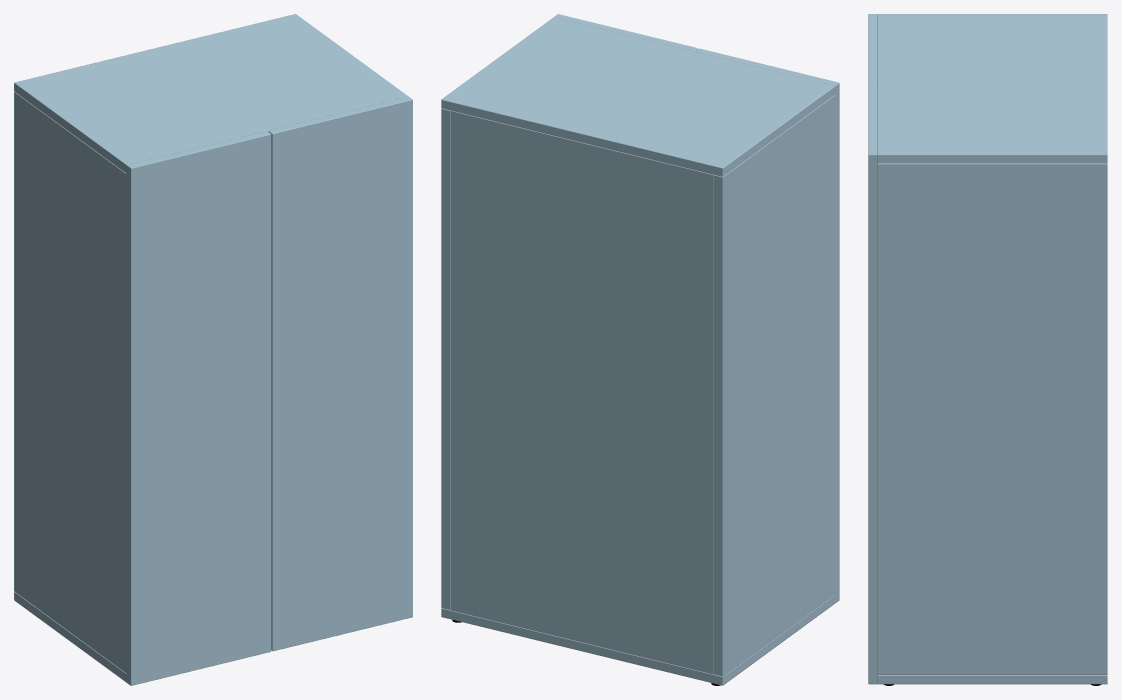
Rendered from lastare_rega_39626732.glb.
3 renders of one model, left to right at view 1: azimuth 30°, elevation 25°; view 2: azimuth 150°, elevation 25°; view 3: azimuth 270°, elevation 25°, orthographic. The views are drawn at different scales.
Parts seen in each view (by area): view 1: lastare_rega_39626732; view 2: lastare_rega_39626732; view 3: lastare_rega_39626732.
Boxes of the visible parts, x1,y1,x2,y2 form: lastare_rega_39626732: [14, 14, 412, 685]; lastare_rega_39626732: [441, 14, 839, 685]; lastare_rega_39626732: [868, 14, 1107, 685].
Size of the model in its own units: 0.5702 by 1.01 by 0.4103.
